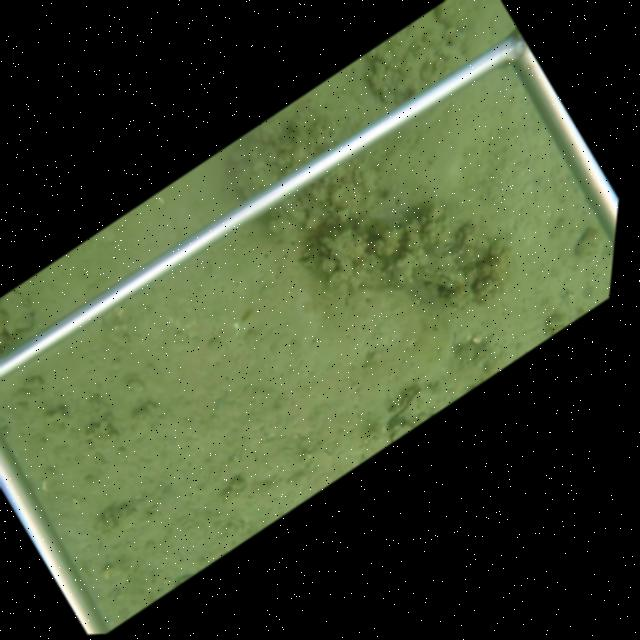Oyster-Closed: (382, 382, 453, 444), (416, 266, 469, 293)
